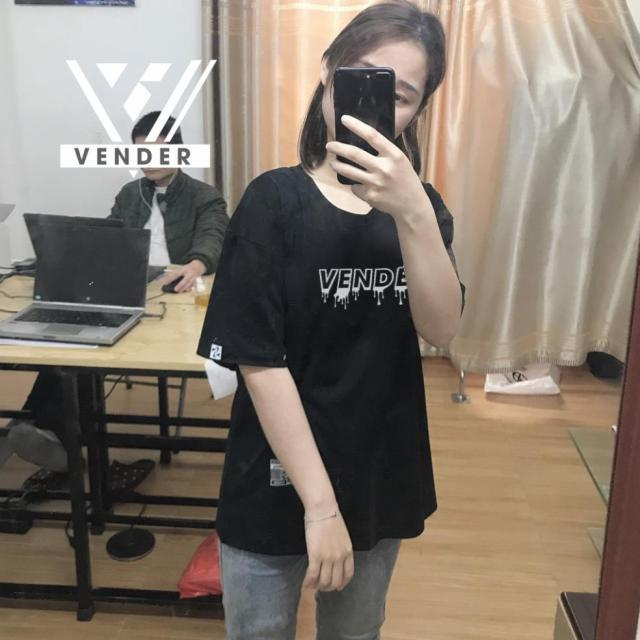Shirt: (198, 163, 460, 549)
